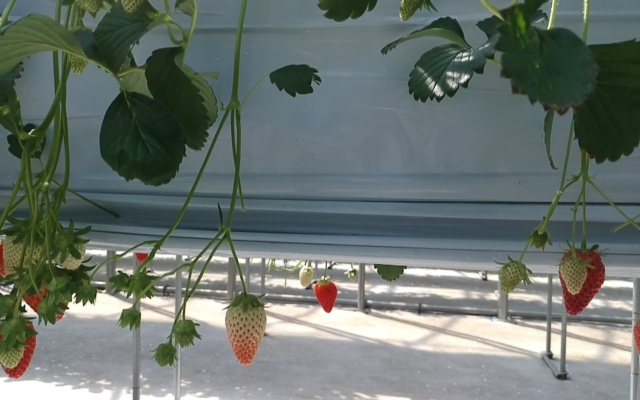GreenStrawberry: (222, 294, 269, 368), (1, 221, 46, 283), (49, 228, 88, 274), (496, 260, 530, 295), (558, 255, 587, 294), (1, 326, 27, 368)
MatureStrawberry: (557, 246, 608, 316), (21, 265, 70, 323), (1, 312, 38, 379)
